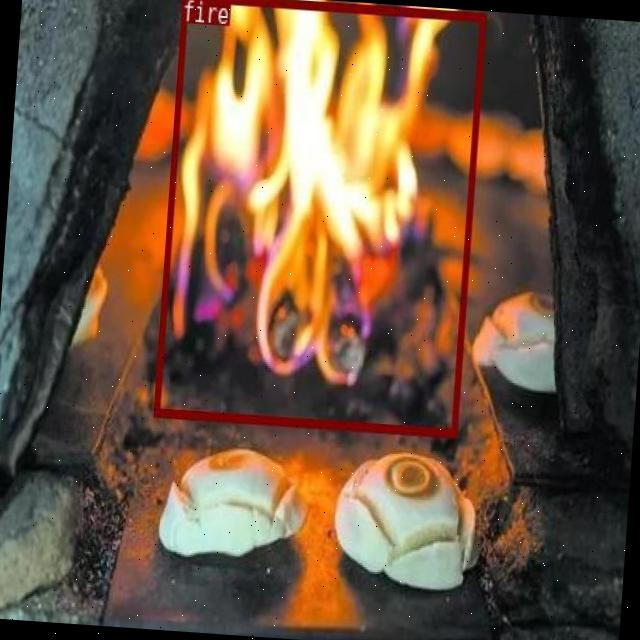fire: (153, 0, 484, 436)
